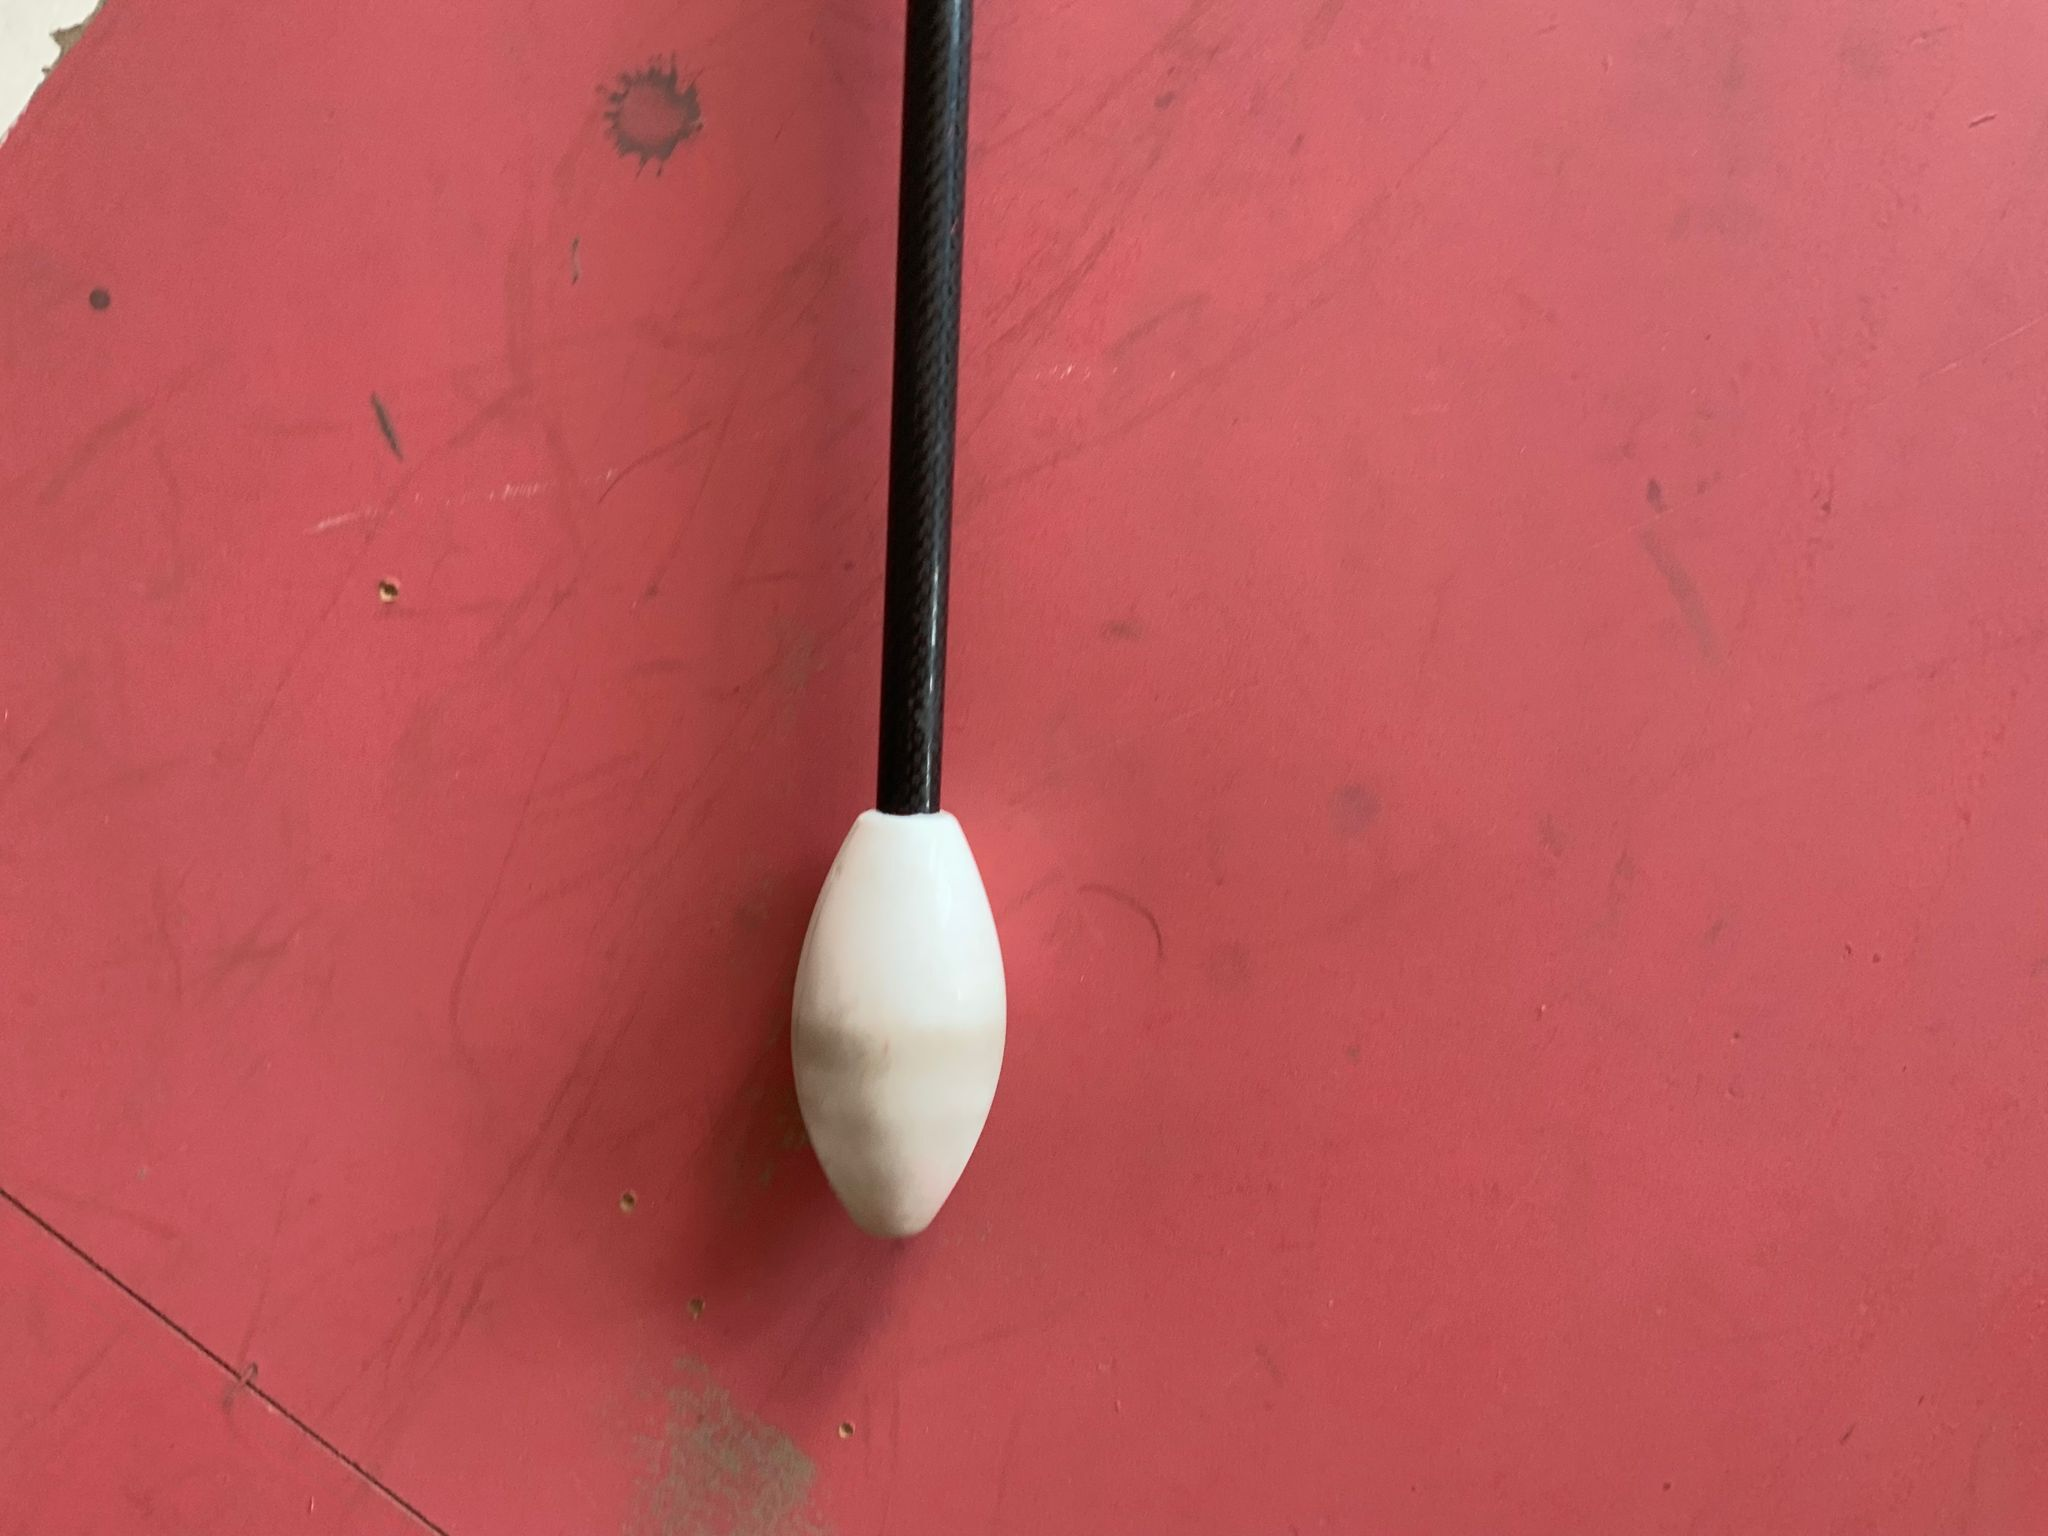arrowFront: (790, 800, 1014, 1238)
